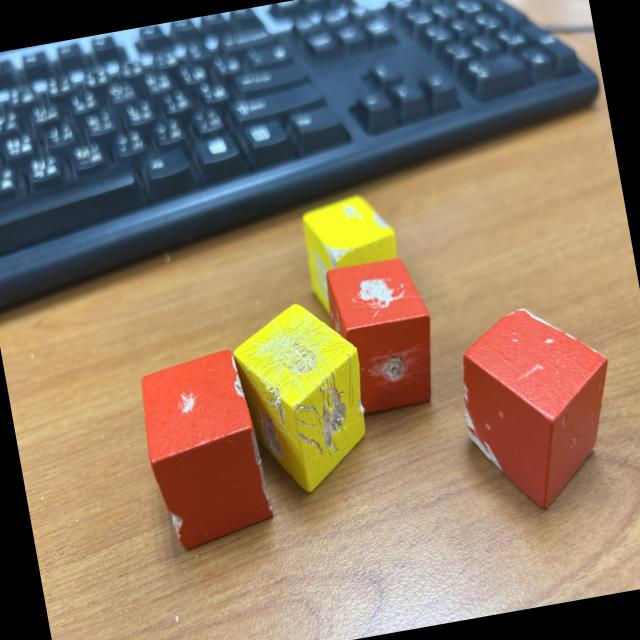broken: (447, 294, 631, 520), (222, 294, 380, 502), (132, 346, 278, 555), (319, 254, 444, 416), (296, 188, 408, 322)
